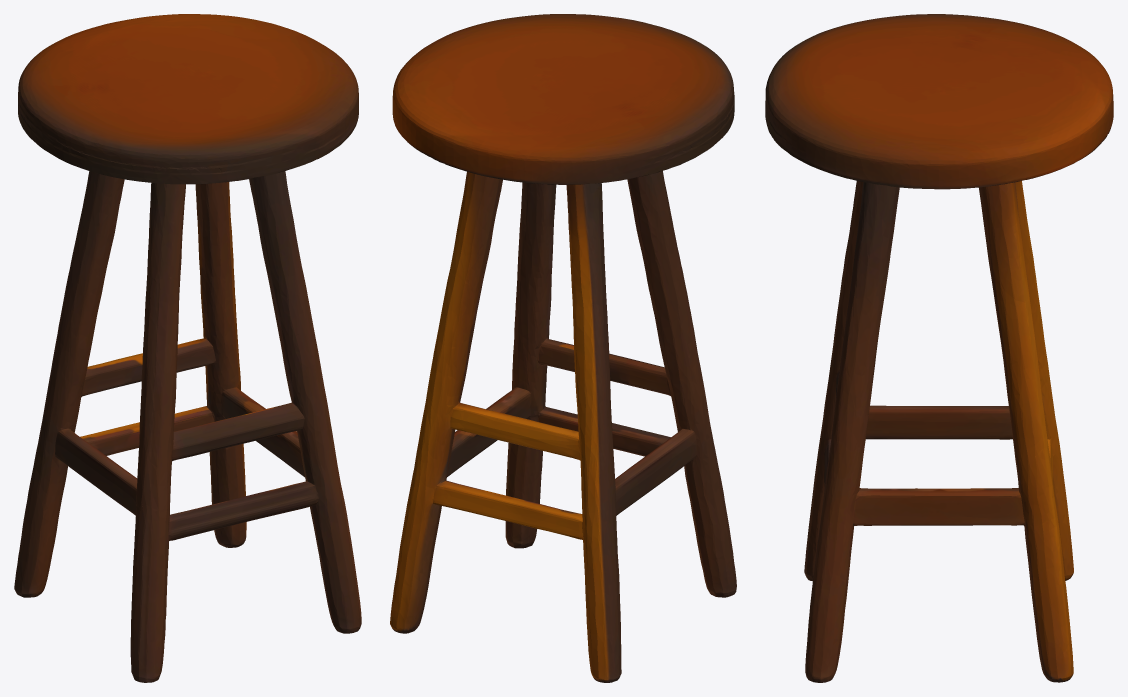
File: bar_stool_30.glb
The picture shows the model from 3 angles, left to right: view 1: azimuth 30°, elevation 25°; view 2: azimuth 150°, elevation 25°; view 3: azimuth 270°, elevation 25°; orthographic projection. The views are drawn at different scales.
Parts seen in each view (by area): view 1: bar_stool_30.obj; view 2: bar_stool_30.obj; view 3: bar_stool_30.obj.
Part boxes in pixels (x1,y1,x2,y2): bar_stool_30.obj: (14, 14, 361, 682); bar_stool_30.obj: (390, 14, 736, 682); bar_stool_30.obj: (765, 14, 1113, 682).
Bounding box in the file's own units: 0.448 × 0.775 × 0.4486.
Materials: 1 (1 with a texture image).
